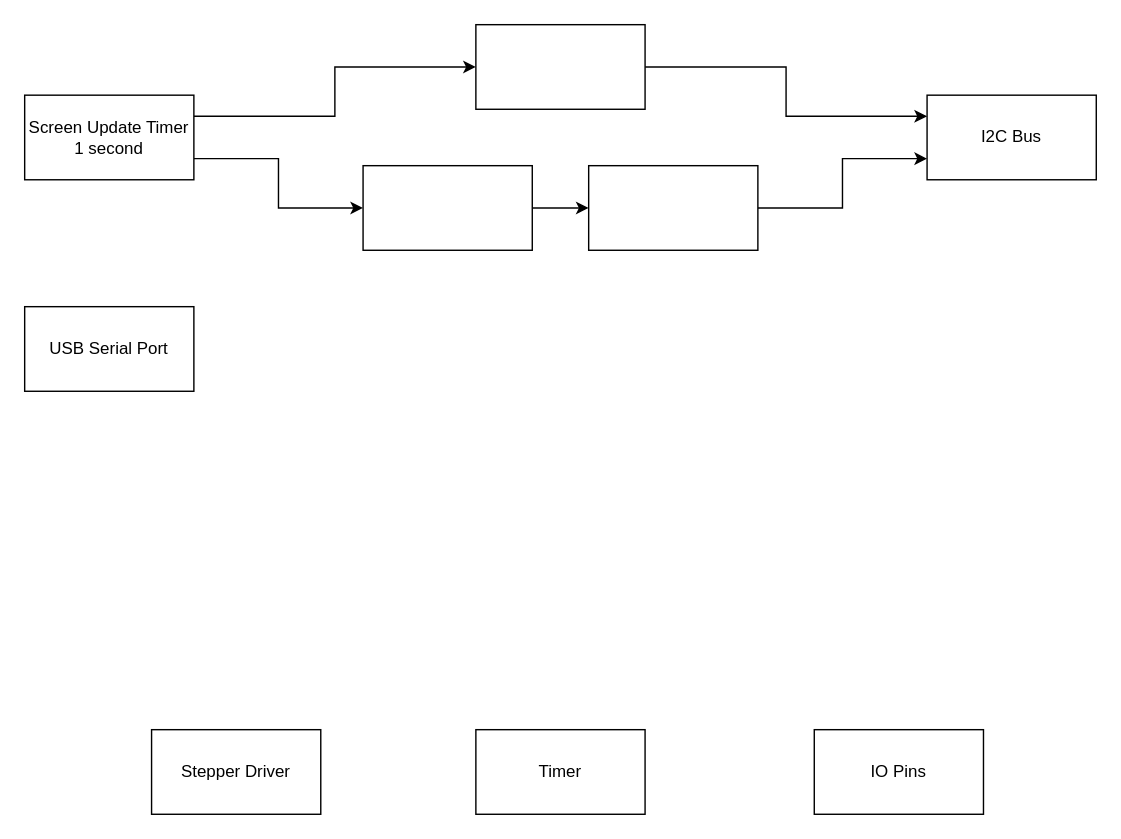
This 1121x839 diagram has some shape labels left out. The shapes that lost their labels are listed below. From the top down, each one's centre as x and y in pixels, then its label:
(x=559, y=66): Temperature and Humidity Sensor
(x=447, y=207): Display Driver
(x=672, y=207): OLED Interface
